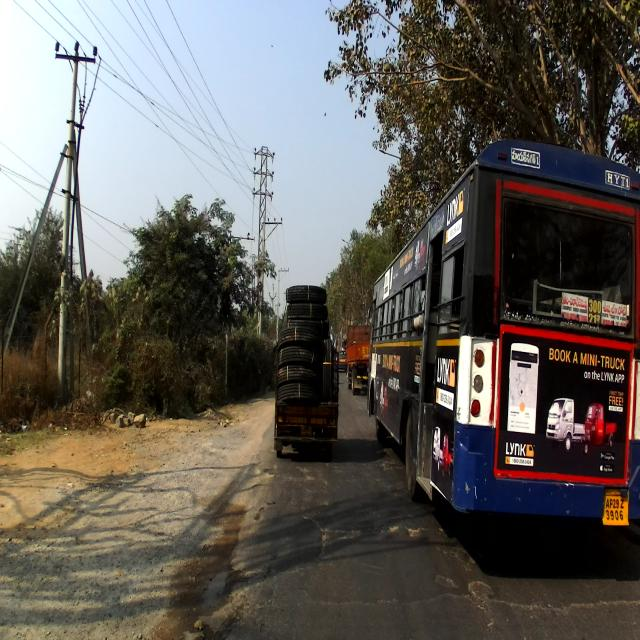auto ahead at: (272, 275, 342, 468)
bus ahead at: (369, 151, 640, 535)
electric pole ahead at: (45, 30, 102, 411)
